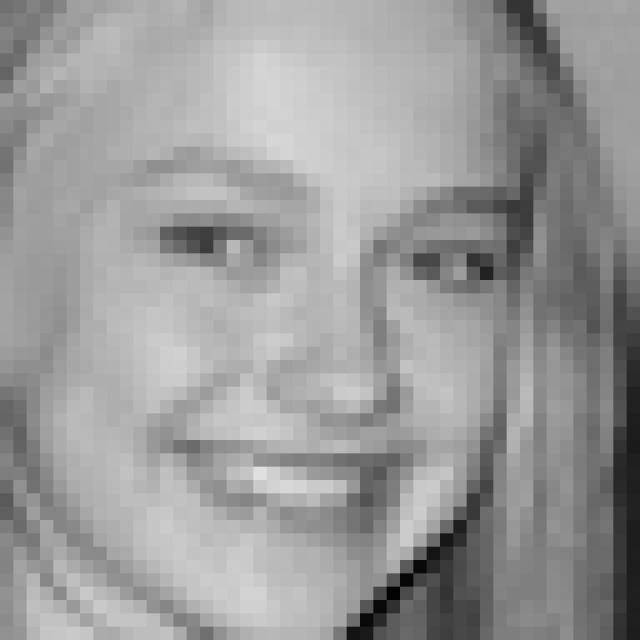happy: (117, 143, 532, 546)
